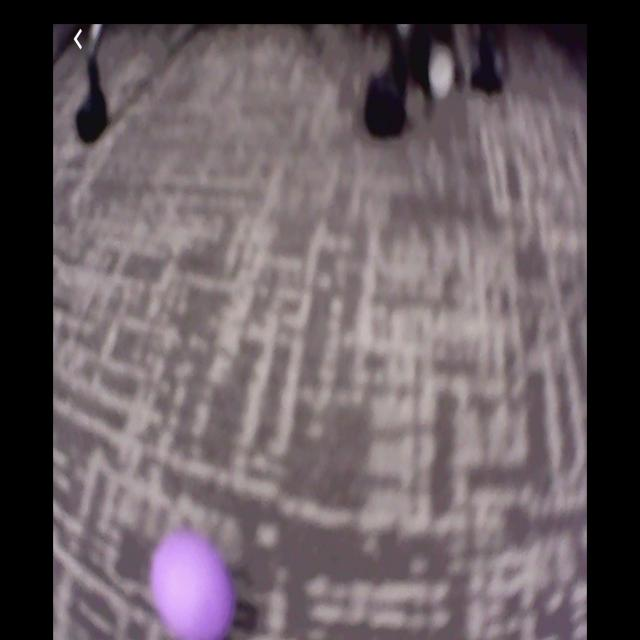ball: (152, 534, 234, 640)
